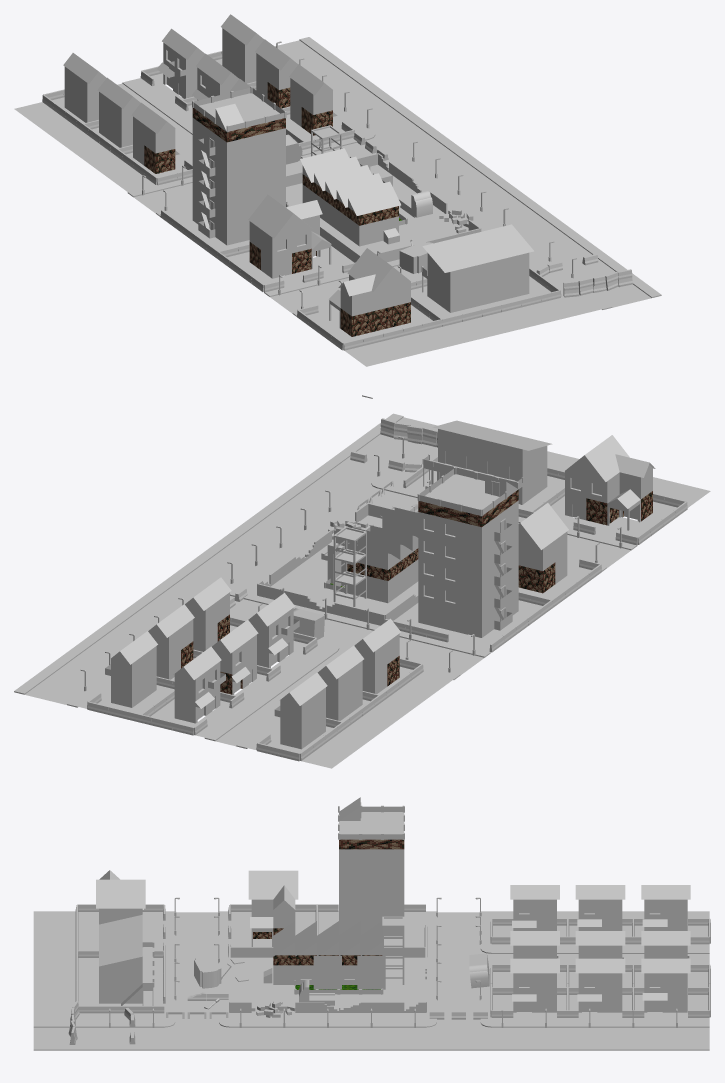
File: Stage.gltf
The picture shows the model from 3 angles, top to bottom: view 1: azimuth 30°, elevation 25°; view 2: azimuth 150°, elevation 25°; view 3: azimuth 270°, elevation 25°; orthographic projection. The views are drawn at different scales.
Parts seen in each view (by area): view 1: detailBarrierStrong_typeA.001; view 2: detailBarrierStrong_typeA.001; view 3: detailBarrierStrong_typeA.001.
Part boxes in pixels (x1,y1,x2,y2): detailBarrierStrong_typeA.001: (14, 14, 661, 366); detailBarrierStrong_typeA.001: (14, 395, 710, 768); detailBarrierStrong_typeA.001: (33, 797, 710, 1050).
Bounding box in the file's own units: 17.05 × 6.34 × 31.96.
